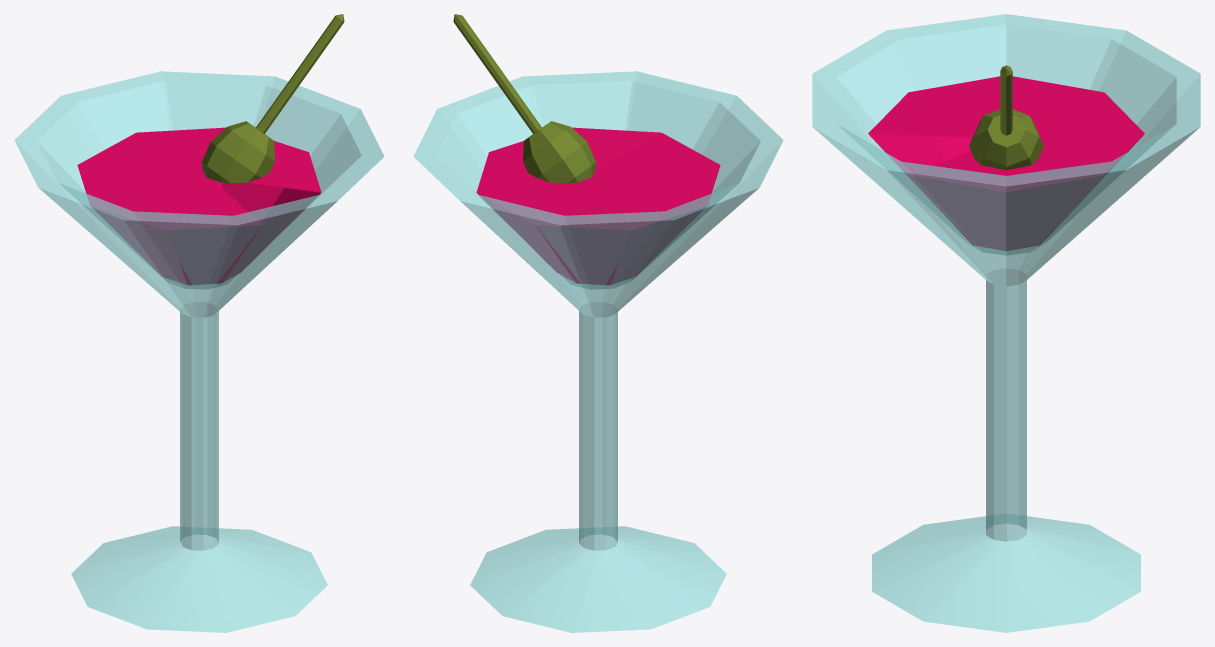
File: Taca.fbx
3 views of the same model, side by side, from view 1: azimuth 30°, elevation 25°; view 2: azimuth 150°, elevation 25°; view 3: azimuth 270°, elevation 25° (orthographic). The views are drawn at different scales.
Parts seen in each view (by area): view 1: pCone9; view 2: pCone9; view 3: pCone9.
Boxes of the visible parts, box(x1,y1,x2,y2) form: pCone9: box(14, 14, 384, 632); pCone9: box(413, 14, 783, 632); pCone9: box(812, 14, 1200, 632).
Bounding box in the file's own units: 2.88 × 4.53 × 2.74.
